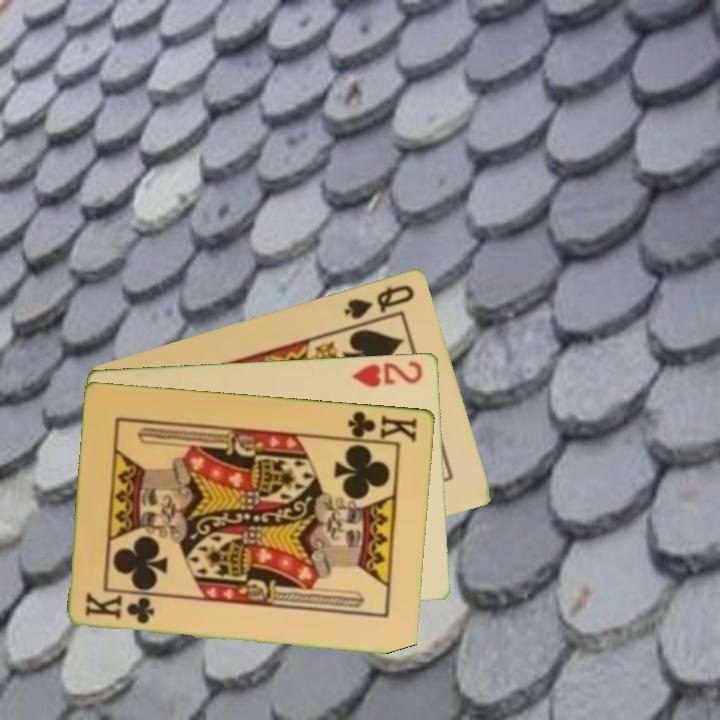2h: (349, 357, 426, 389)
Kc: (339, 407, 421, 445), (82, 591, 158, 626)
Qs: (341, 280, 418, 322)
